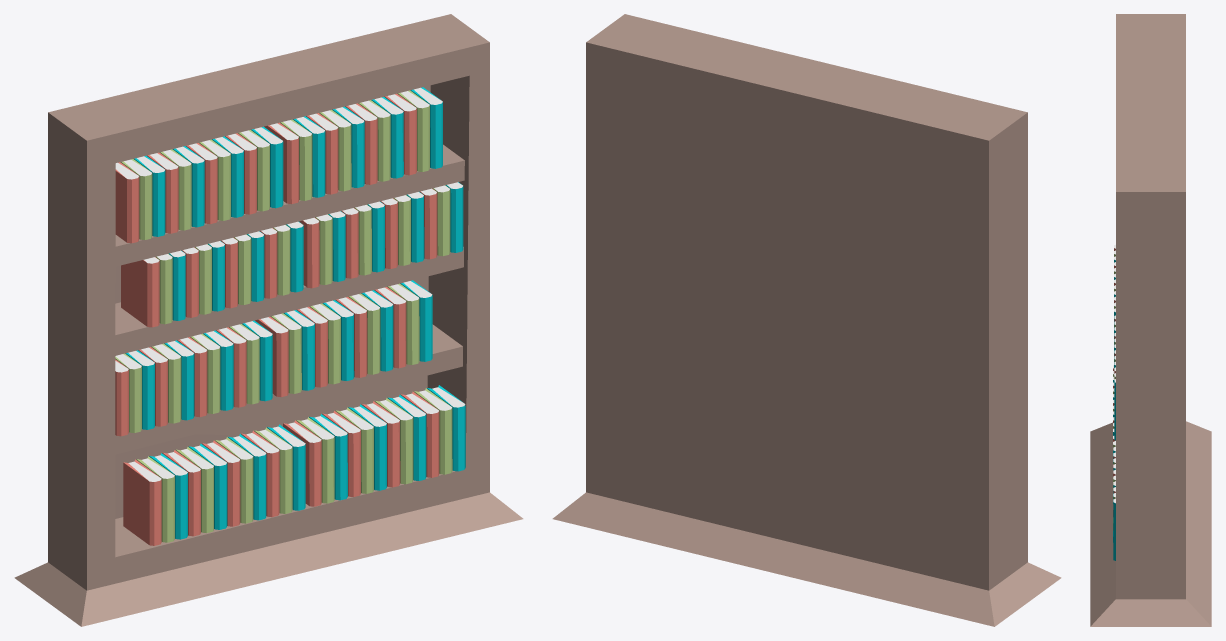
File: bookshelf.gltf
3 renders of one model, left to right at view 1: azimuth 30°, elevation 25°; view 2: azimuth 150°, elevation 25°; view 3: azimuth 270°, elevation 25°, orthographic. The views are drawn at different scales.
Parts seen in each view (by area): view 1: mesh886227347; view 2: mesh886227347; view 3: mesh886227347.
Boxes of the visible parts, <box> form: mesh886227347: <box>14,14,523,626</box>; mesh886227347: <box>552,14,1061,626</box>; mesh886227347: <box>1090,14,1211,626</box>.
Bounding box in the file's own units: 1.69 × 1.72 × 0.4444.
